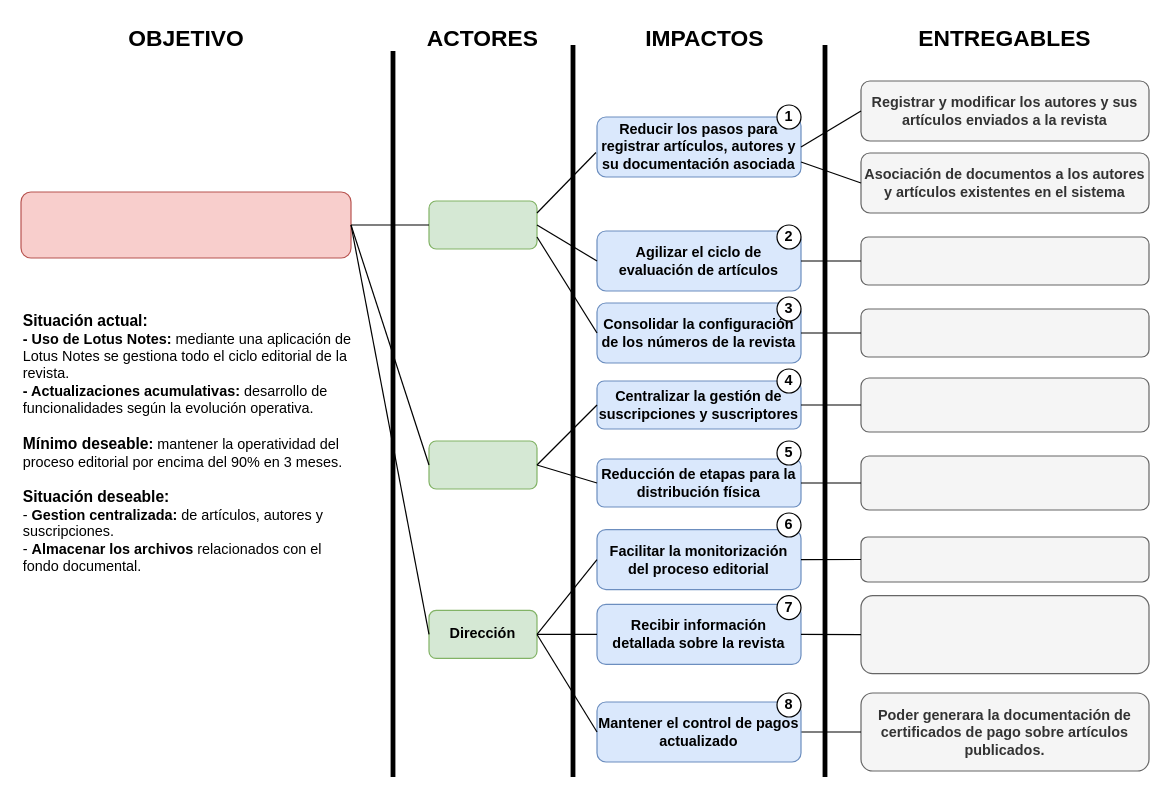
Some shapes in this 1170 by 800 pixel diagram are drawn without their labels. The shapes that lost their labels are listed below. From the top down, each one's centre as x and y in pixels, then its label:
At [185,224]: "Mantener la continuidad de negocio".
At [482,224]: "Editor".
At [1004,260]: "Mantener el listado de consejeros y sus evaluaciones sobre artículos".
At [1004,332]: "Validar la propuesta de un numero de revista".
At [1004,404]: "Gestionar el ciclo de vida de las suscripciones".
At [482,464]: "Distribuidor".
At [1004,482]: "Generación unificada de etiquetas y control de ejemplares físicos a enviar".
At [1004,559]: "Controlar el progreso mediante estados de articulos y números de revista".
At [1004,634]: "Obtener información según criterios de busqueda".
